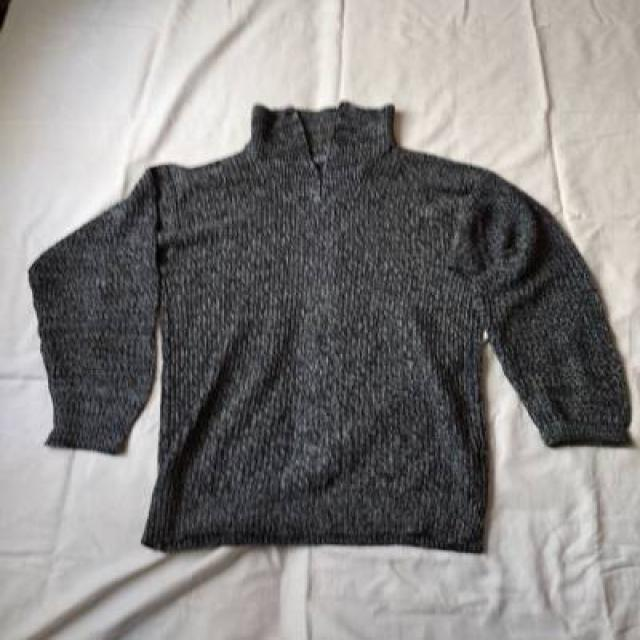Clothes -Biodegradable-: (30, 105, 638, 552)
